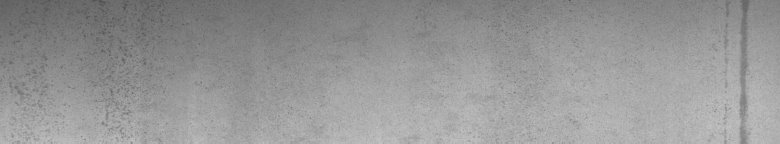ib: (5, 4, 164, 136)
